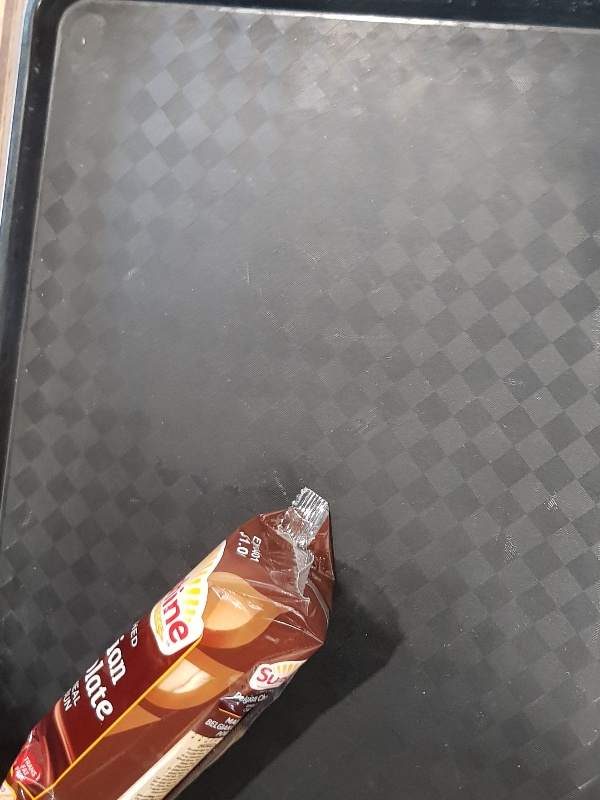Sunshine Belgium Chocolate Wholemeal Cream Bun: (1, 487, 335, 800)
